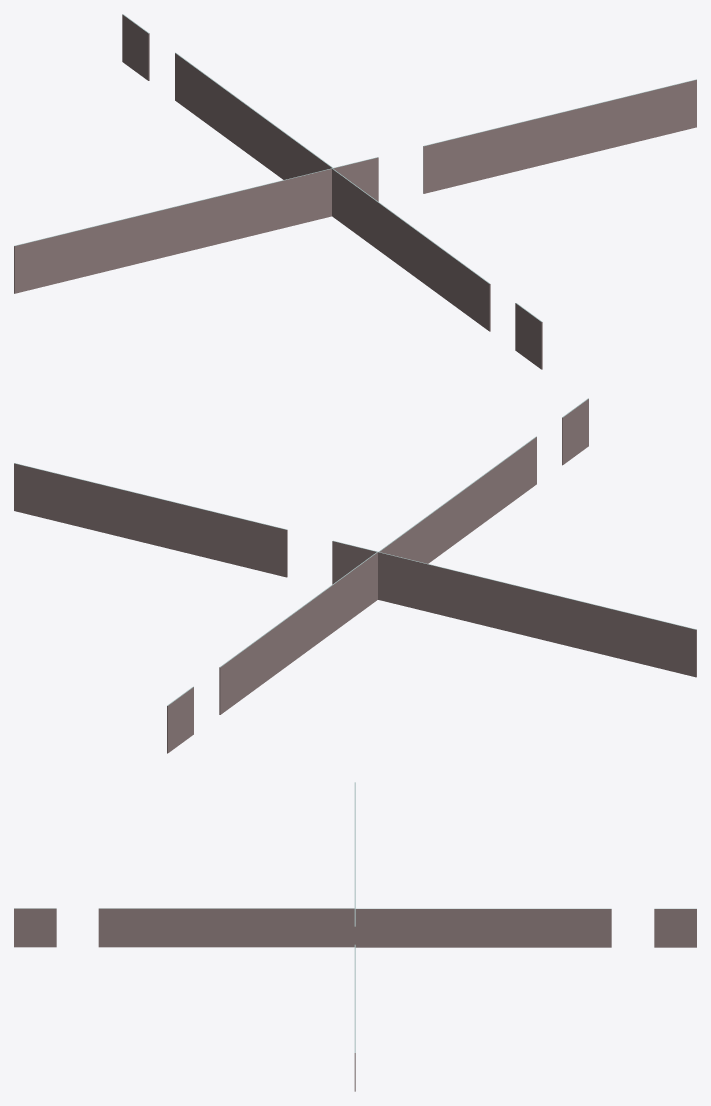
File: Dividers.obj
3 views of the same model, one above another, from view 1: azimuth 30°, elevation 25°; view 2: azimuth 150°, elevation 25°; view 3: azimuth 270°, elevation 25° (orthographic). The views are drawn at different scales.
Visible parts, largest first — view 1: QMazePieceEmpty (16), QMazePieceEmpty (21), QMazePieceEmpty (20), QMazePieceEmpty (15), QMazePieceEmpty (8), QMazePieceEmpty (3), QMazePieceEmpty (19), QMazePieceEmpty (6), QMazePieceEmpty (28), QMazePieceEmpty (22), QMazePieceEmpty (7), QMazePieceEmpty (5) (+15 smaller); view 2: QMazePieceEmpty (16), QMazePieceEmpty (15), QMazePieceEmpty (8), QMazePieceEmpty (2), QMazePieceEmpty (28), QMazePieceEmpty (21), QMazePieceEmpty (20), QMazePieceEmpty (19), QMazePieceEmpty (7), QMazePieceEmpty (6), QMazePieceEmpty (22), QMazePieceEmpty (5) (+15 smaller); view 3: QMazePieceEmpty (26), QMazePieceEmpty (17), QMazePieceEmpty (14), QMazePieceEmpty (12), QMazePieceEmpty (24), QMazePieceEmpty (23), QMazePieceEmpty (18), QMazePieceEmpty (13), QMazePieceEmpty (11), QMazePieceEmpty (10), QMazePieceEmpty (9), QMazePieceEmpty (4) (+2 smaller).
Boxes of the visible parts, x1,y1,x2,y2 form: QMazePieceEmpty (16): [423, 135, 469, 193]; QMazePieceEmpty (21): [560, 101, 605, 160]; QMazePieceEmpty (20): [515, 112, 560, 171]; QMazePieceEmpty (15): [14, 235, 59, 293]; QMazePieceEmpty (8): [60, 223, 105, 282]; QMazePieceEmpty (3): [242, 179, 287, 238]; QMazePieceEmpty (19): [605, 90, 651, 149]; QMazePieceEmpty (6): [105, 212, 150, 271]; QMazePieceEmpty (28): [651, 79, 696, 138]; QMazePieceEmpty (22): [469, 124, 514, 182]; QMazePieceEmpty (7): [151, 201, 196, 260]; QMazePieceEmpty (5): [196, 190, 241, 249]; QMazePieceEmpty (16): [241, 518, 287, 577]; QMazePieceEmpty (15): [651, 618, 696, 677]; QMazePieceEmpty (8): [605, 607, 650, 666]; QMazePieceEmpty (2): [378, 552, 423, 610]; QMazePieceEmpty (28): [14, 463, 59, 521]; QMazePieceEmpty (21): [105, 485, 150, 543]; QMazePieceEmpty (20): [150, 496, 195, 555]; QMazePieceEmpty (19): [59, 474, 104, 532]; QMazePieceEmpty (7): [514, 585, 559, 643]; QMazePieceEmpty (6): [560, 596, 605, 654]; QMazePieceEmpty (22): [196, 507, 241, 566]; QMazePieceEmpty (5): [469, 574, 514, 632]; QMazePieceEmpty (26): [98, 908, 141, 947]; QMazePieceEmpty (17): [226, 908, 269, 947]; QMazePieceEmpty (14): [355, 908, 398, 947]; QMazePieceEmpty (12): [483, 908, 526, 947]; QMazePieceEmpty (24): [184, 908, 226, 947]; QMazePieceEmpty (23): [312, 908, 354, 947]; QMazePieceEmpty (18): [269, 908, 311, 947]; QMazePieceEmpty (13): [398, 908, 440, 947]; QMazePieceEmpty (11): [441, 908, 483, 947]; QMazePieceEmpty (10): [526, 908, 568, 947]; QMazePieceEmpty (9): [569, 908, 611, 947]; QMazePieceEmpty (4): [654, 908, 696, 947].
Size of the model in its own units: 75 by 5 by 80.
